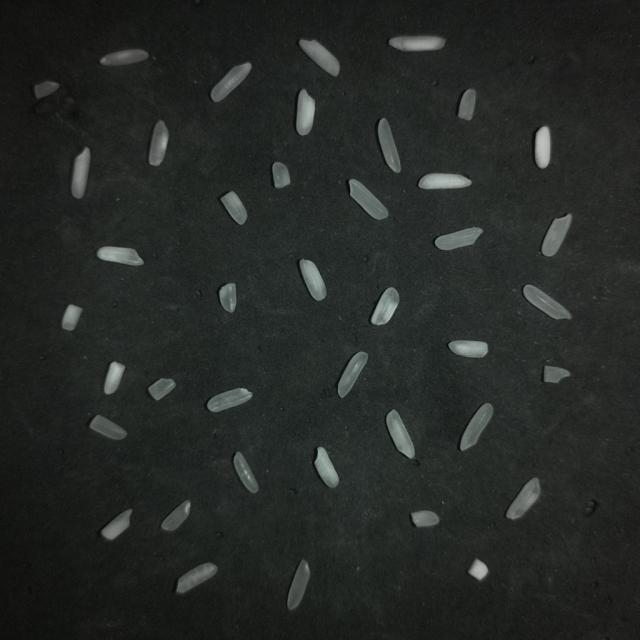broken: (160, 500, 190, 532), (220, 191, 247, 224), (90, 415, 126, 439), (534, 126, 550, 168), (148, 379, 176, 400), (458, 89, 476, 120), (219, 284, 236, 313), (272, 162, 290, 188), (543, 366, 570, 383), (34, 81, 59, 99), (412, 509, 438, 525)
chalky: (299, 39, 339, 76), (386, 410, 414, 458), (176, 563, 217, 594), (299, 260, 326, 301), (371, 288, 399, 325), (314, 447, 338, 488), (71, 147, 90, 198), (101, 509, 132, 540), (389, 35, 445, 51), (97, 247, 143, 266), (296, 89, 314, 135), (449, 340, 488, 358), (104, 362, 125, 394), (62, 304, 83, 330), (467, 559, 488, 580)
whole: (210, 62, 251, 102), (524, 285, 571, 319), (349, 179, 388, 219), (460, 404, 493, 450), (506, 478, 540, 519), (338, 352, 368, 398), (542, 214, 571, 256), (378, 119, 400, 173), (287, 560, 310, 610), (207, 388, 252, 412), (435, 228, 483, 250), (234, 452, 258, 493), (149, 121, 168, 166), (100, 49, 148, 66), (419, 174, 471, 189)
